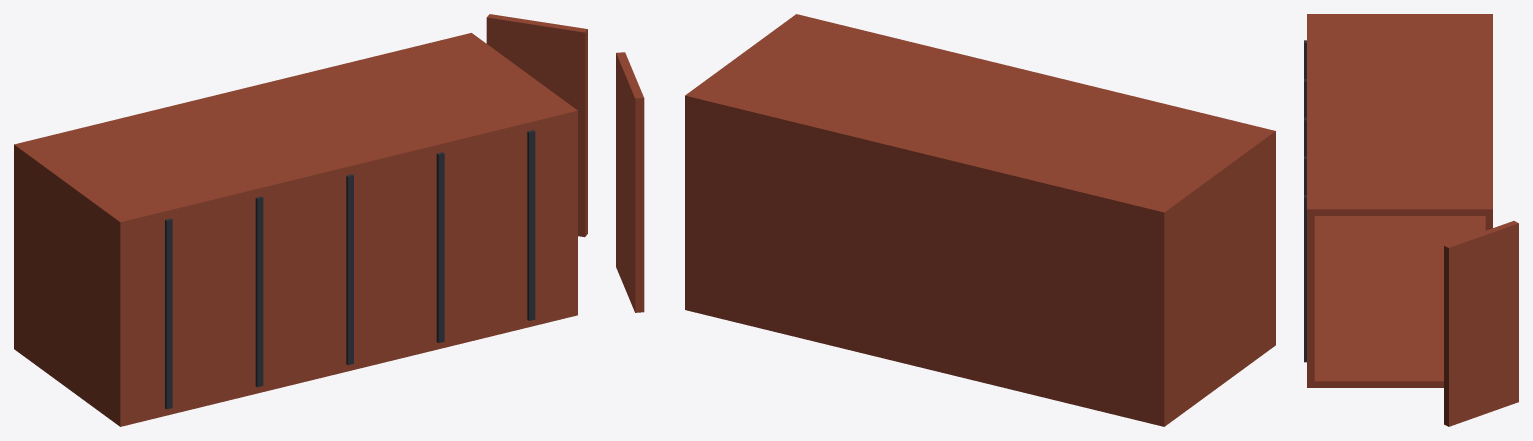
The model's file is container_open_laterite.glb.
3 renders of one model, left to right at view 1: azimuth 30°, elevation 25°; view 2: azimuth 150°, elevation 25°; view 3: azimuth 270°, elevation 25°, orthographic. The views are drawn at different scales.
Parts seen in each view (by area): view 1: model; view 2: model; view 3: model.
Part boxes in pixels (x1,y1,x2,y2): model: (14, 14, 587, 426); model: (616, 14, 1275, 426); model: (1304, 14, 1518, 426).
Size of the model in its own units: 7.27 by 2.59 by 2.82.
